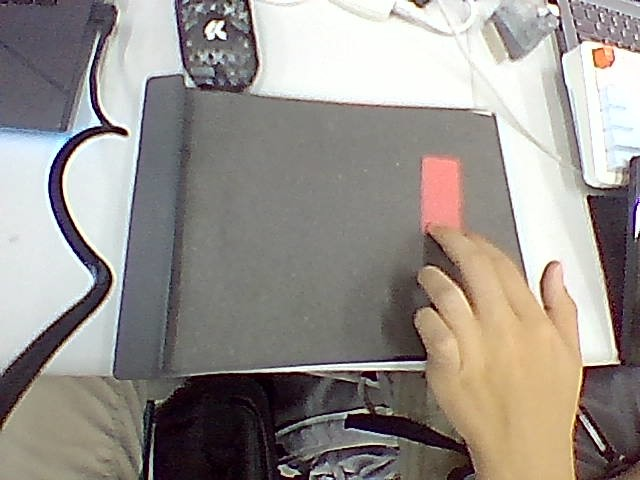card: (422, 156, 462, 229)
